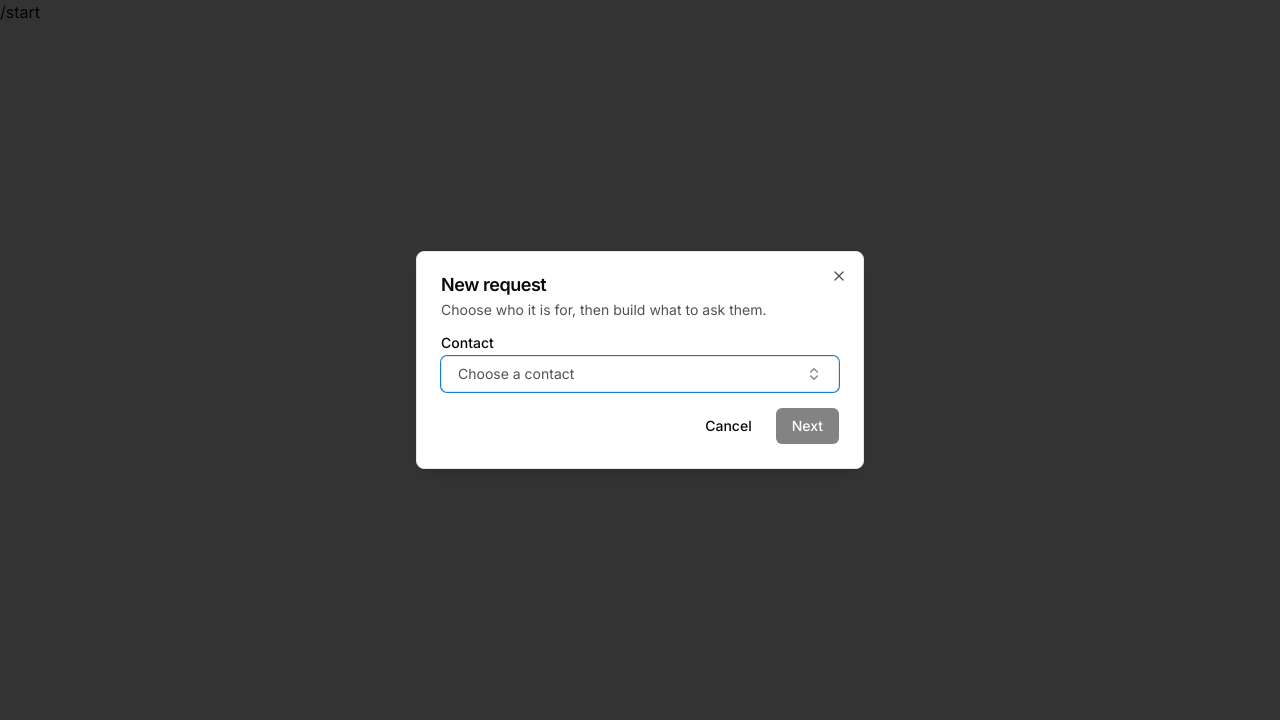
the New request dialog › waits for a contact, then opens the builder for the one chosen
Expected: the button "Next" is disabled, [776,408,839,444]
Click the button "Choose a contact": click(516, 374) [441,356,839,392]
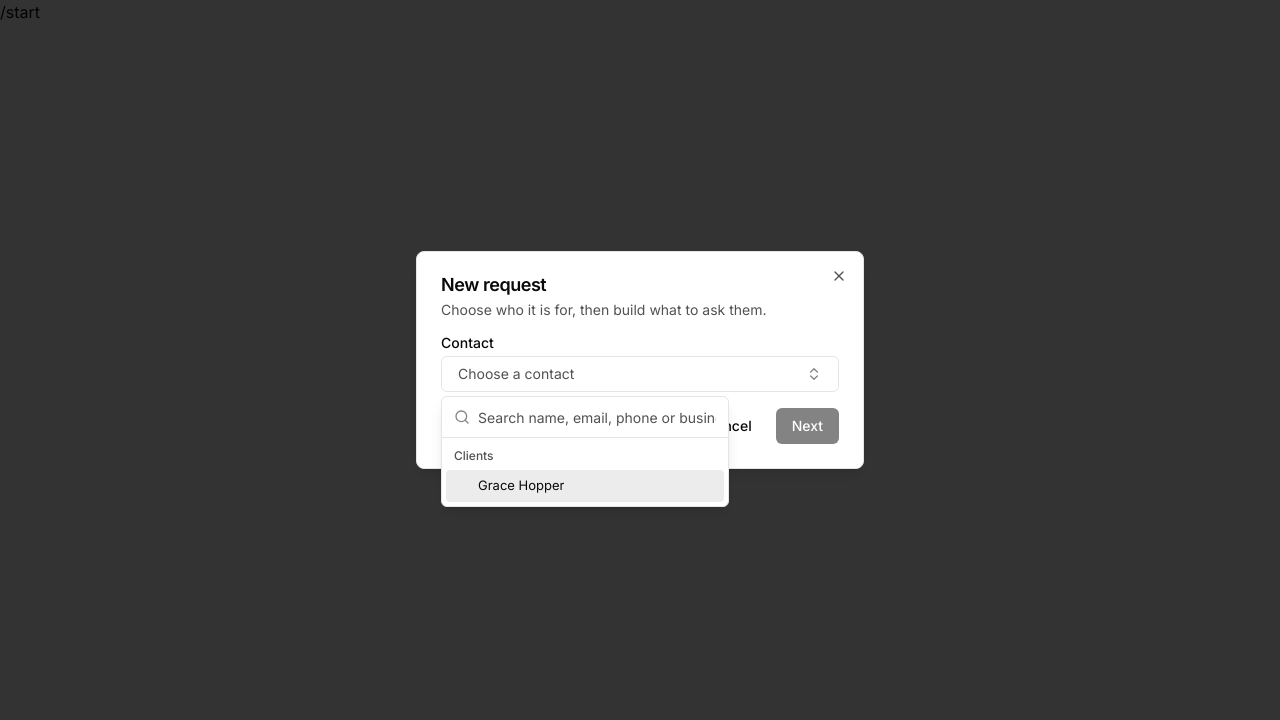
Click the option "Grace Hopper": click(521, 485) [446,470,724,502]
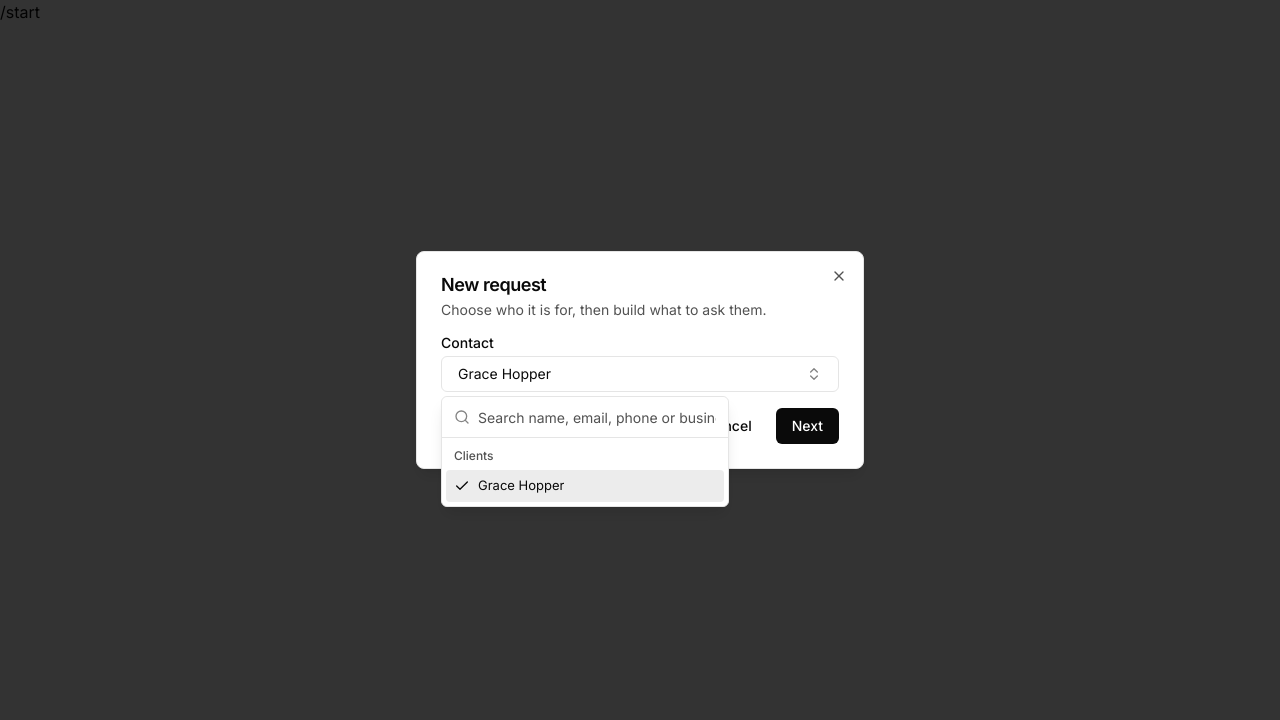
Click the button "Next": click(807, 426) [776,408,839,444]
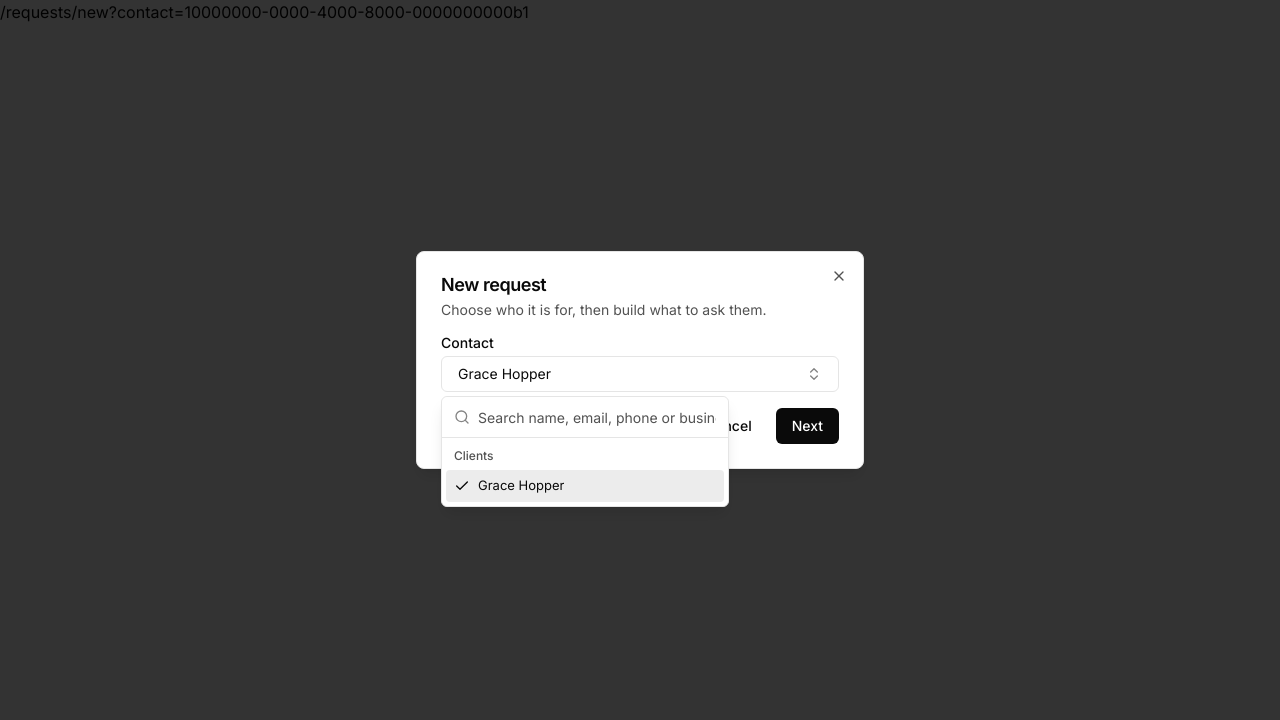
Result: the text with test id "where" reads "/requests/new?contact=10000000-0000-4000-8000-0000000000b1" at [0,2,529,22]
